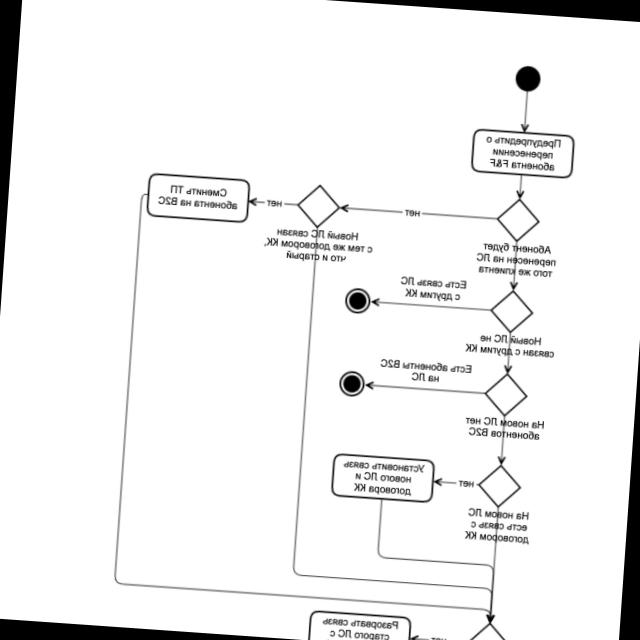arrow: (111, 191, 523, 626), (287, 230, 521, 625), (370, 499, 501, 621), (338, 203, 497, 224), (365, 380, 486, 398), (485, 506, 503, 624), (371, 298, 491, 314), (433, 476, 480, 489), (509, 241, 521, 290), (497, 416, 508, 465), (503, 332, 515, 374), (519, 93, 531, 133), (515, 175, 526, 198)
circle: (339, 372, 363, 396), (516, 66, 539, 91), (345, 289, 369, 312)
diamond: (296, 184, 340, 229), (489, 289, 533, 333), (477, 464, 521, 508), (483, 373, 527, 417), (495, 198, 539, 242)
rectangle: (145, 172, 250, 224), (470, 128, 574, 179), (330, 453, 433, 503)
text_region: (262, 226, 373, 266), (476, 240, 558, 279), (376, 356, 473, 386), (465, 332, 555, 361), (465, 507, 530, 544), (464, 415, 545, 441), (398, 274, 467, 302), (456, 477, 476, 489), (402, 207, 421, 218), (266, 197, 285, 208), (428, 633, 449, 640)
